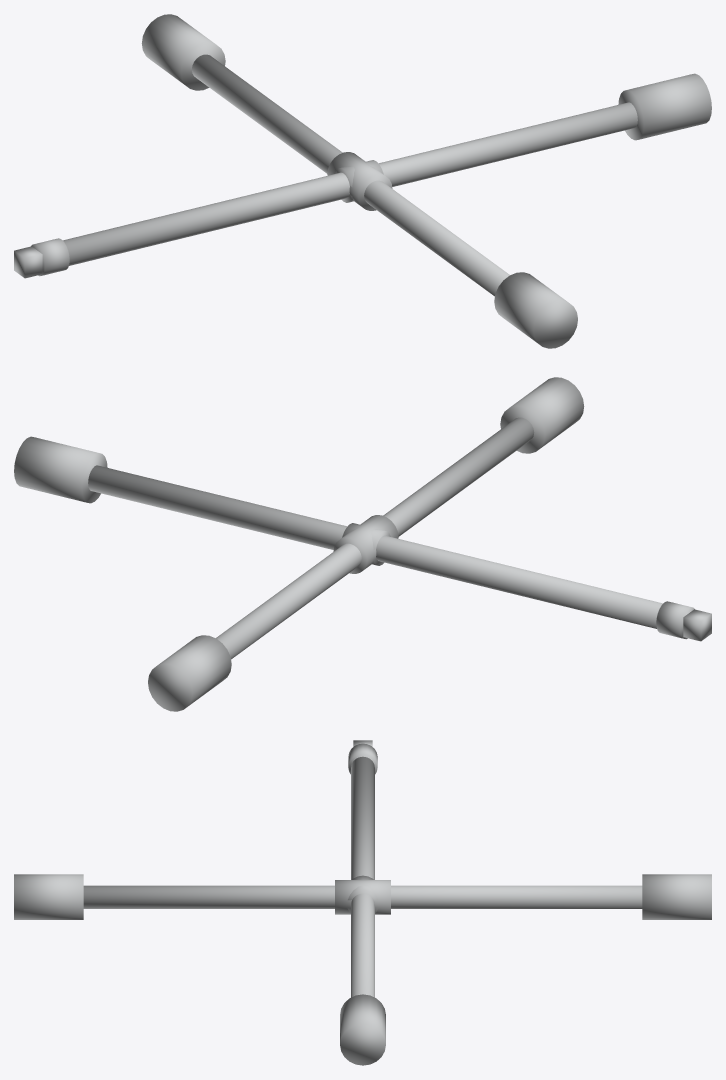
File: Llave_cruz.obj
The picture shows the model from 3 angles, top to bottom: view 1: azimuth 30°, elevation 25°; view 2: azimuth 150°, elevation 25°; view 3: azimuth 270°, elevation 25°; orthographic projection. The views are drawn at different scales.
Visible parts, largest first — view 1: Llave_cruz; view 2: Llave_cruz; view 3: Llave_cruz.
Part boxes in pixels (<box>): Llave_cruz: <box>14,14,711,348</box>; Llave_cruz: <box>14,377,711,711</box>; Llave_cruz: <box>14,740,711,1065</box>.
Bounding box in the file's own units: 0.501 × 0.033 × 0.5.
1 material, 1 textured.
